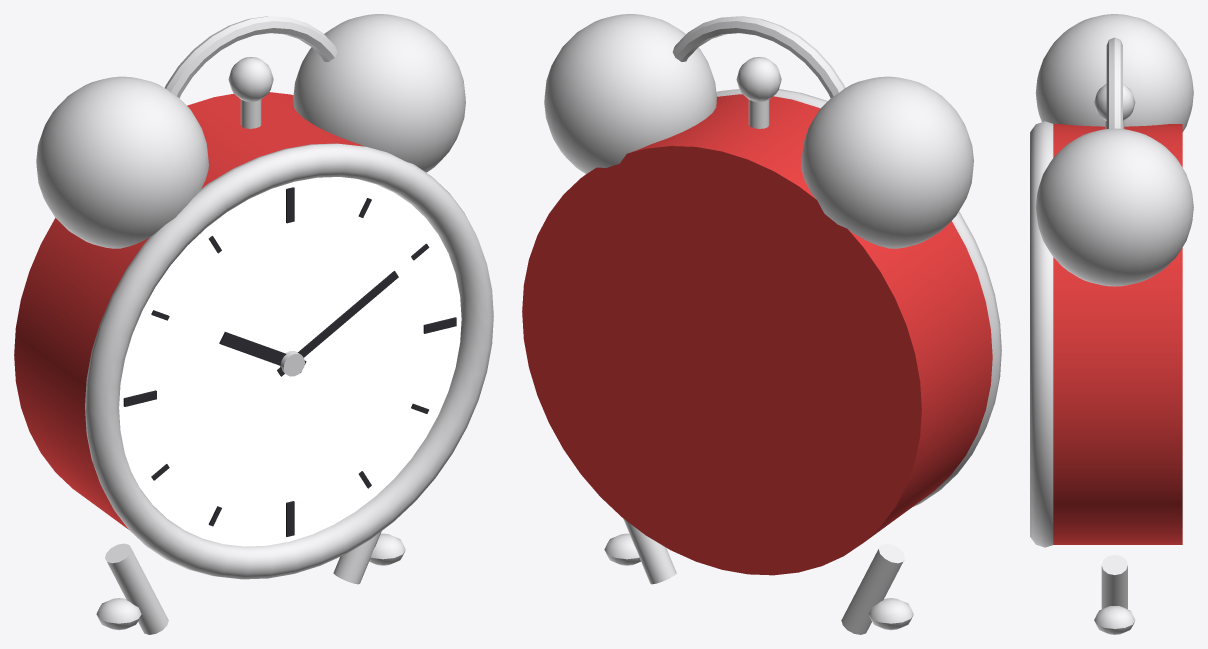
Rendered from clock.glb.
The picture shows the model from 3 angles, left to right: view 1: azimuth 30°, elevation 25°; view 2: azimuth 150°, elevation 25°; view 3: azimuth 270°, elevation 25°; orthographic projection. The views are drawn at different scales.
Visible parts, largest first — view 1: face, bezel, case, bell.001, bell, handle.001, leg.001, striker, leg, hand_min, foot.001, hand_hour (+1 smaller); view 2: case, bell.001, bell, handle.001, bezel, leg.001, striker, leg, foot.001, foot; view 3: case, bell, bell.001, bezel, handle.001, leg, foot, striker.
Boxes of the visible parts, x1,y1,x2,y2 form: face: (119,177,461,546); bezel: (85,143,493,579); case: (14,92,363,529); bell.001: (36,76,208,248); bell: (293,14,465,172); handle.001: (165,16,337,97); leg.001: (105,543,168,634); striker: (228,57,273,101); leg: (333,531,381,584); hand_min: (277,271,398,376); foot.001: (96,598,141,630); hand_hour: (219,332,306,372); case: (522,94,992,575); bell.001: (801,76,973,248); bell: (544,14,716,173); handle.001: (672,16,845,97); bezel: (716,89,1001,506); leg.001: (841,543,904,634); striker: (736,57,781,101); leg: (623,518,676,584); foot.001: (868,598,913,630); foot: (604,533,640,565); case: (1053,124,1182,544); bell: (1035,128,1193,286); bell.001: (1035,14,1193,131); bezel: (1030,121,1053,547); handle.001: (1106,37,1122,128); leg: (1101,555,1127,609); foot: (1094,606,1135,634); striker: (1094,84,1135,120).
Size of the model in its own units: 11.4 by 15.75 by 4.35.
